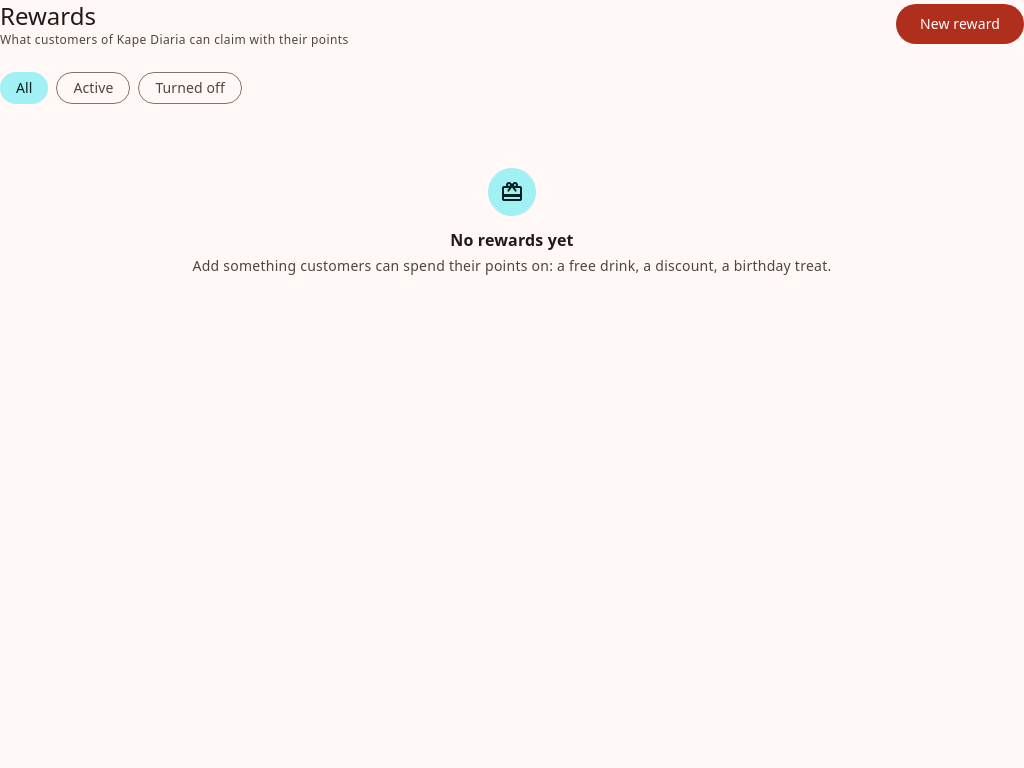
Test: RewardsManager: the create flow › sends the typed reward to createReward and closes on success
Click the button "New reward" at coordinates (960, 24), box [896,4,1023,44]
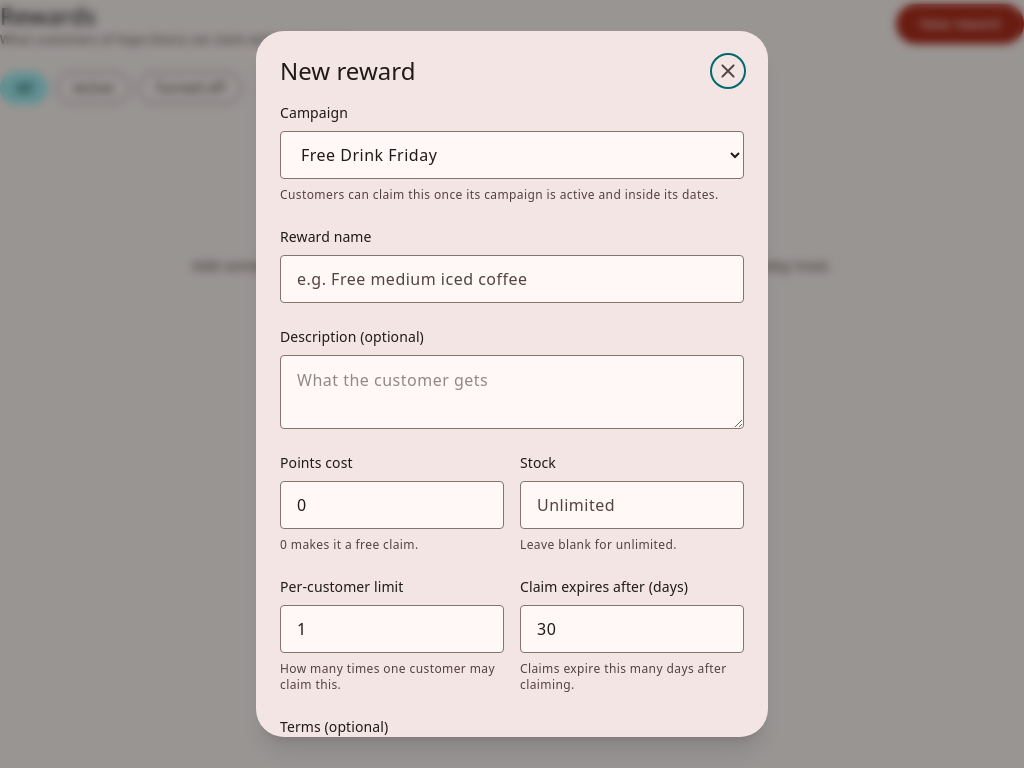
Type "Free pastry" into the field labelled "Reward name" at coordinates (512, 279), box [280,255,744,303]
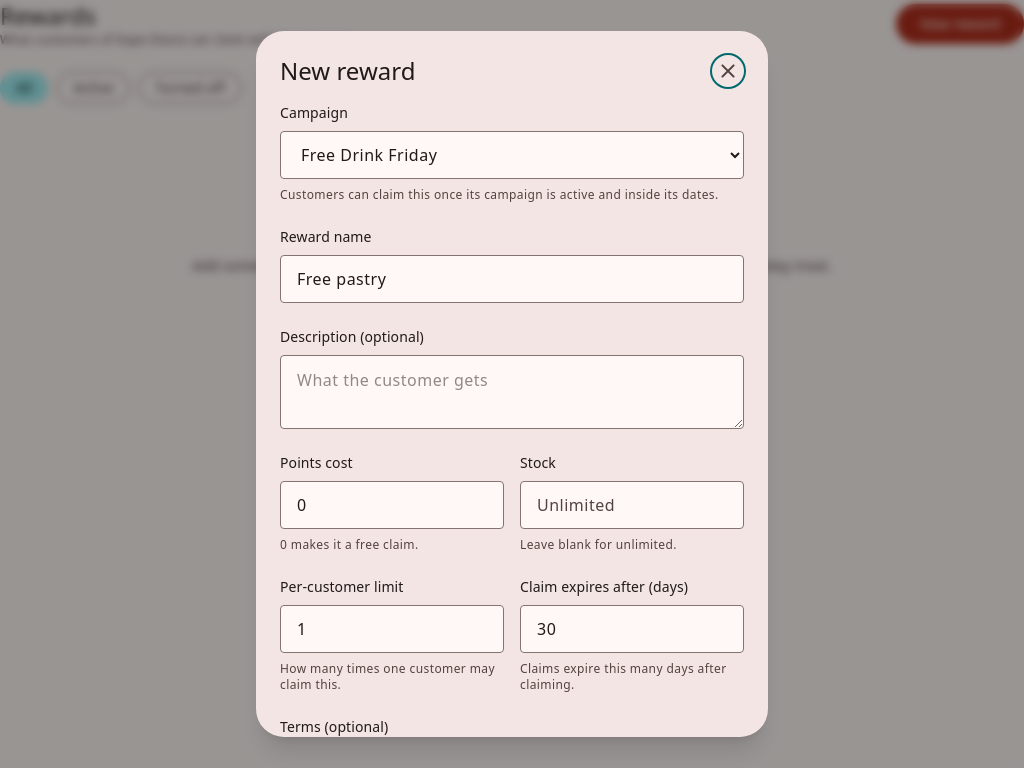
Type "250" into the field labelled "Points cost" at coordinates (392, 505), box [280,481,504,529]
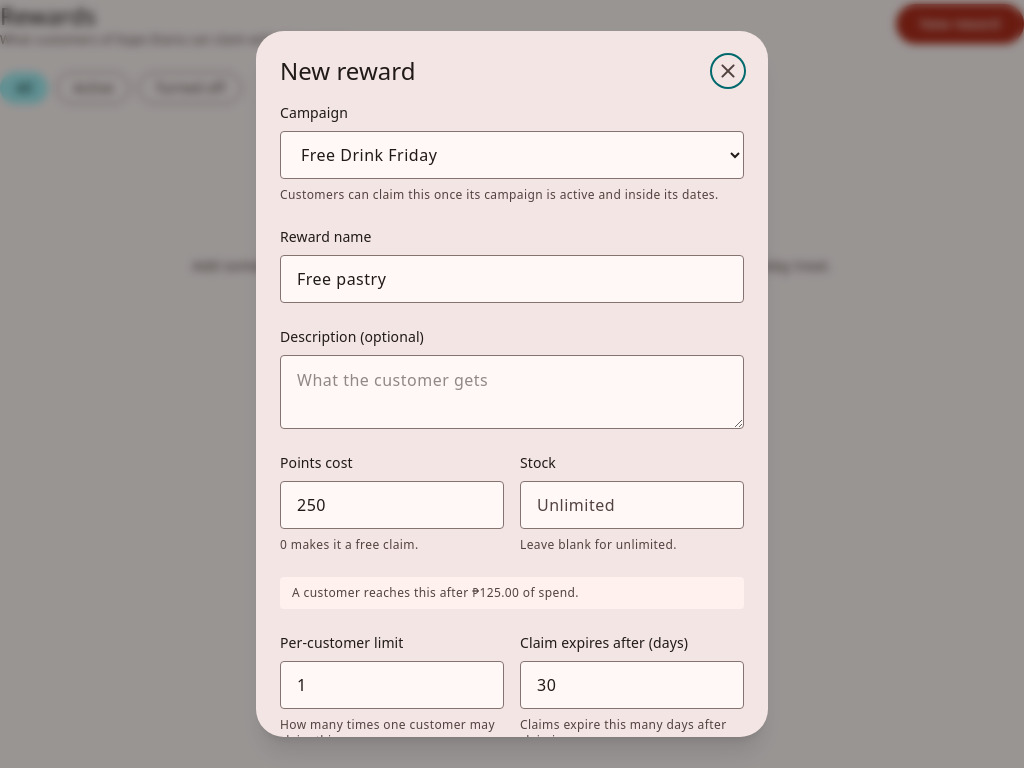
Type "20" into the field labelled "Stock" at coordinates (632, 505), box [520,481,744,529]
(page scrolled)
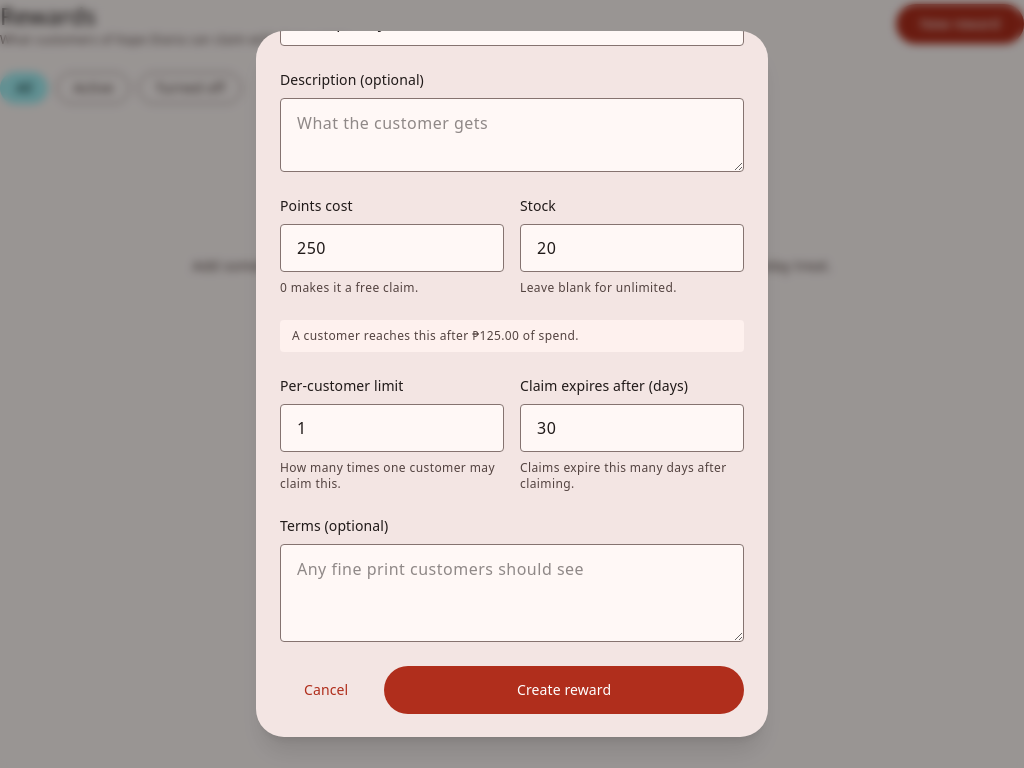
Click the button "Create reward" at coordinates (564, 690), box [384,666,744,714]
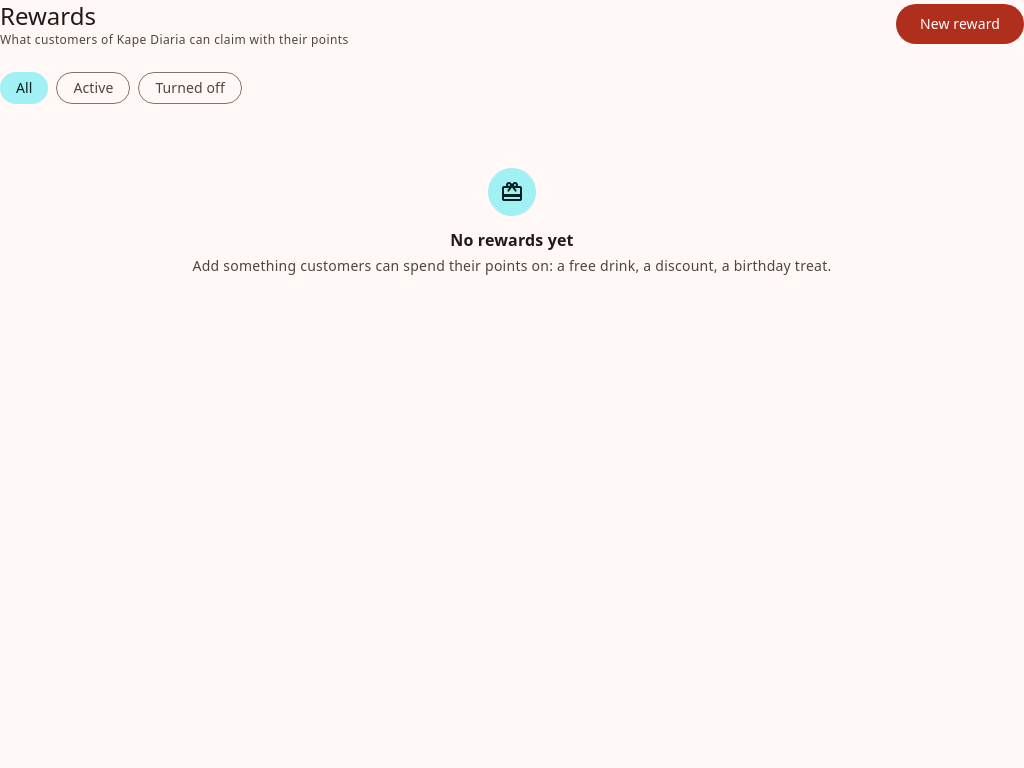
Expected: the button "Create reward" is gone
